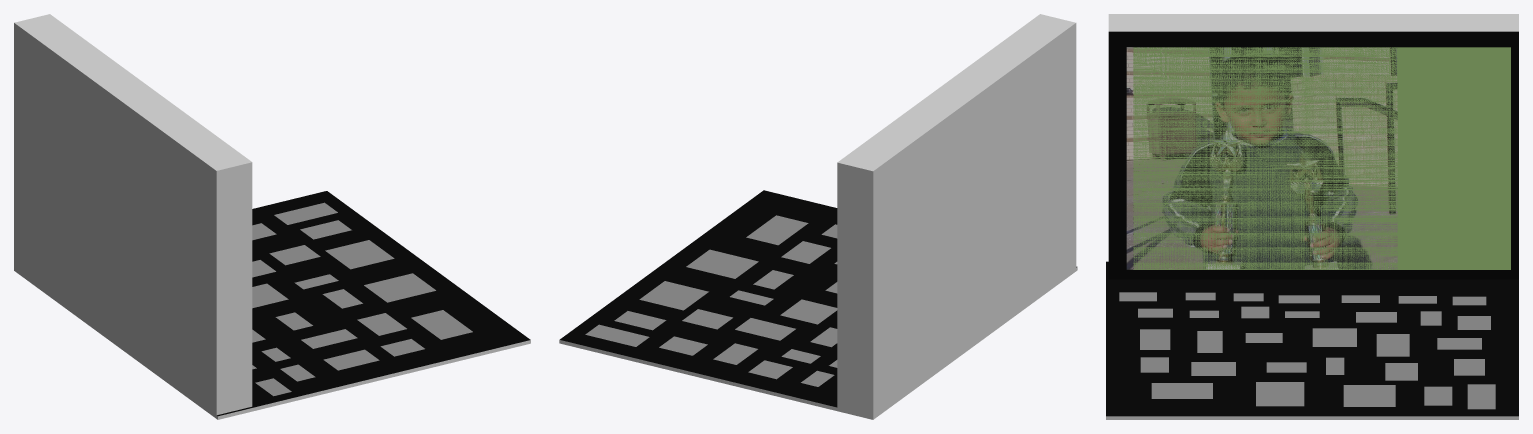
3 renders of one model, left to right at view 1: azimuth 30°, elevation 25°; view 2: azimuth 150°, elevation 25°; view 3: azimuth 270°, elevation 25°, orthographic.
Parts seen in each view (by area): view 1: mesh1-geometry-0, mesh1-geometry-1, mesh1-geometry-3; view 2: mesh1-geometry-0, mesh1-geometry-1, mesh1-geometry-3; view 3: mesh1-geometry-2, mesh1-geometry-1, mesh2-geometry-0, mesh1-geometry-3, mesh1-geometry-0.
Boxes of the visible parts, x1,y1,x2,y2 form: mesh1-geometry-0: (14, 14, 530, 419); mesh1-geometry-1: (217, 191, 530, 416); mesh1-geometry-3: (252, 202, 472, 396); mesh1-geometry-0: (559, 14, 1077, 419); mesh1-geometry-1: (560, 190, 1076, 407); mesh1-geometry-3: (585, 215, 837, 386); mesh1-geometry-2: (1133, 47, 1510, 269); mesh1-geometry-1: (1106, 31, 1518, 416); mesh2-geometry-0: (1126, 47, 1397, 269); mesh1-geometry-3: (1119, 292, 1495, 409); mesh1-geometry-0: (1106, 14, 1518, 419).
Bounding box in the file's own units: 0.5927 × 0.4489 × 0.6687.
5 materials, 1 textured.
